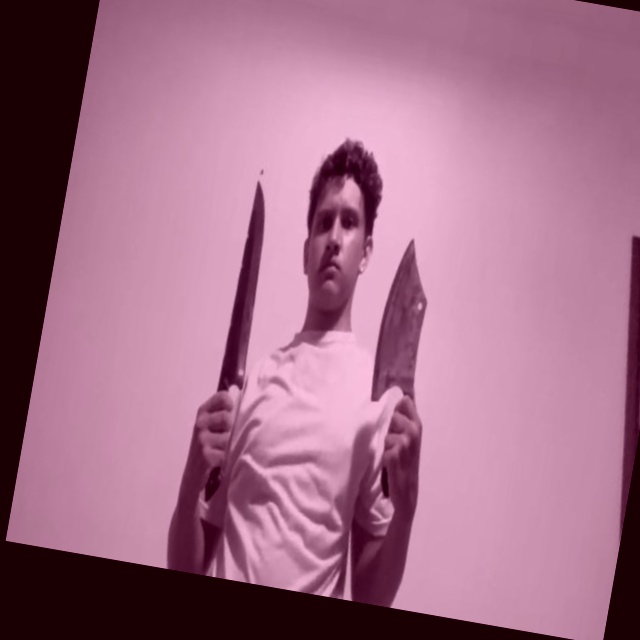Sharp-Object: (219, 180, 281, 388), (368, 236, 439, 408)
